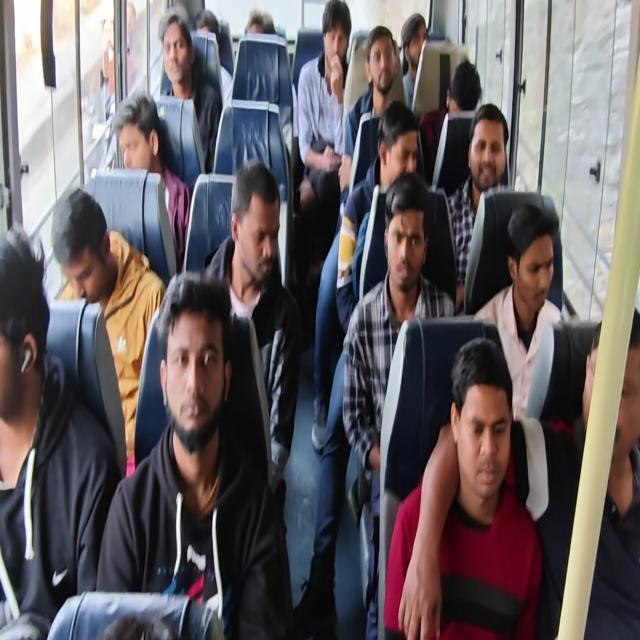person: (154, 294, 227, 438), (0, 237, 53, 429), (584, 322, 640, 466), (454, 368, 510, 495), (51, 198, 113, 300), (230, 175, 274, 292), (509, 221, 559, 319), (110, 110, 160, 178), (382, 204, 422, 281), (310, 3, 350, 76), (444, 64, 483, 132), (383, 120, 419, 188), (466, 124, 501, 191), (398, 13, 432, 81), (162, 22, 195, 86), (238, 2, 275, 48), (367, 32, 394, 94), (192, 0, 220, 51)
